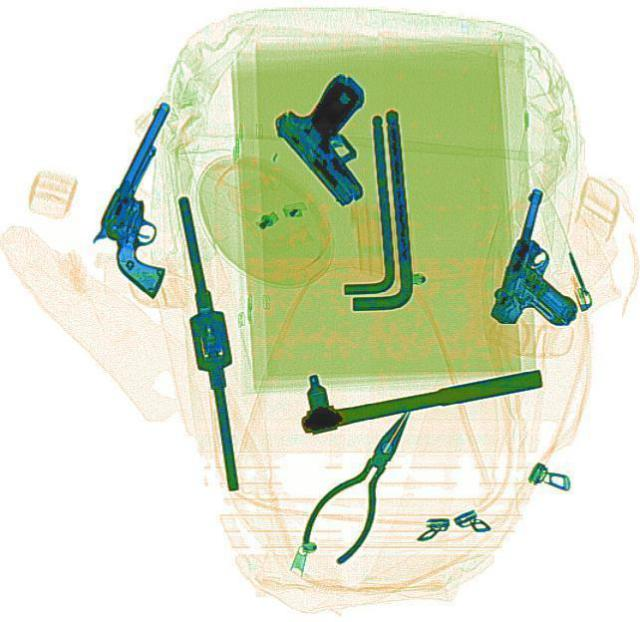Gun: (67, 96, 241, 297), (263, 64, 421, 207), (483, 184, 615, 338)
Pliers: (291, 391, 437, 566)
